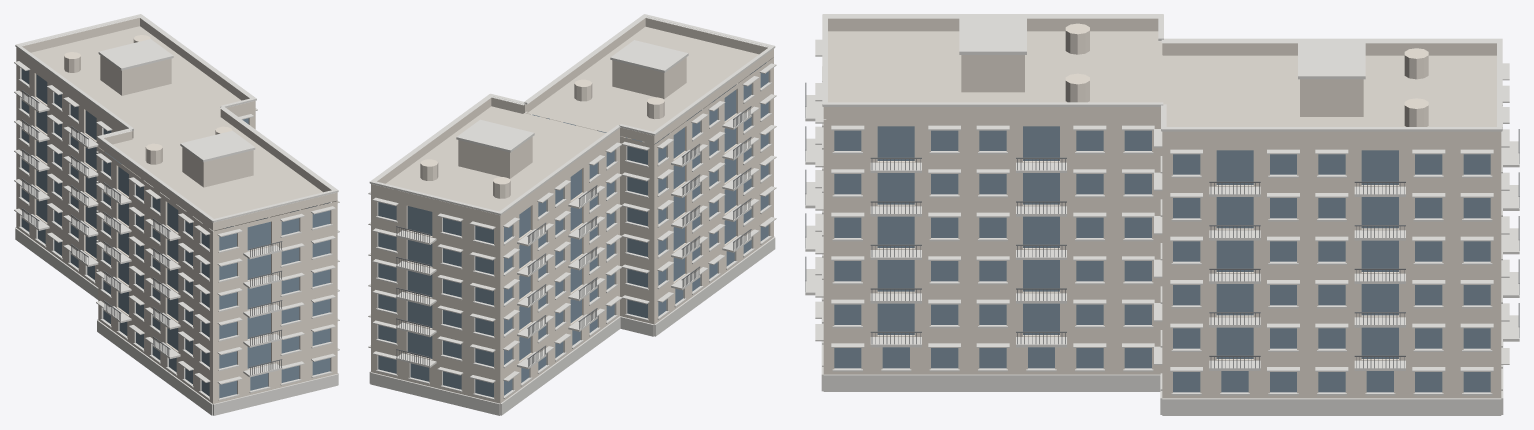
File: Faculty_Residence_2.fbx
3 renders of one model, left to right at view 1: azimuth 30°, elevation 25°; view 2: azimuth 150°, elevation 25°; view 3: azimuth 270°, elevation 25°, orthographic. The views are drawn at different scales.
Parts seen in each view (by area): view 1: Faculty_Residence_2; view 2: Faculty_Residence_2; view 3: Faculty_Residence_2.
Boxes of the visible parts, <box> form: Faculty_Residence_2: <box>14,14,339,415</box>; Faculty_Residence_2: <box>368,14,776,415</box>; Faculty_Residence_2: <box>805,14,1519,415</box>.
Bounding box in the file's own units: 21.6 × 24.51 × 50.6.
